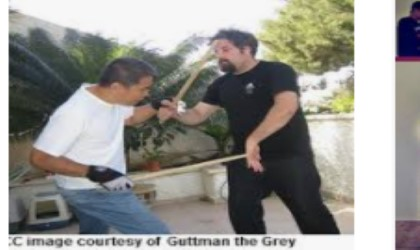baston_e: (134, 151, 239, 185), (164, 43, 220, 106)
baston_v: (153, 110, 167, 128), (210, 35, 223, 48)
